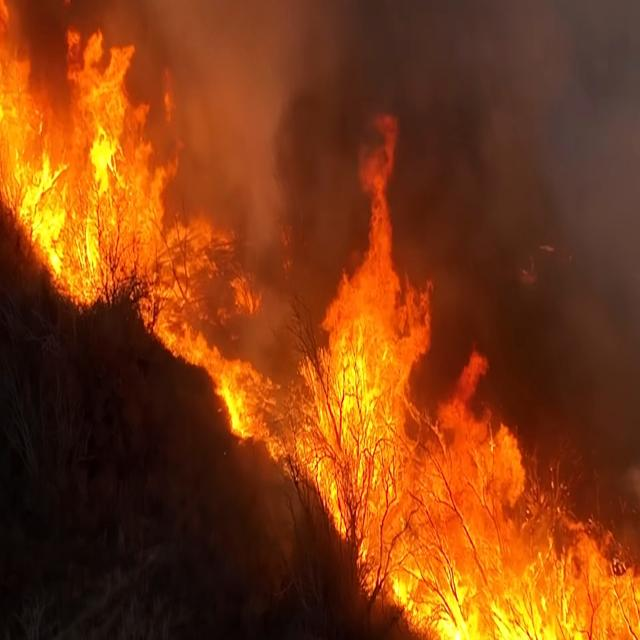fire: (247, 104, 437, 536), (400, 409, 640, 640), (0, 0, 146, 302)
smoke: (183, 0, 568, 98)
